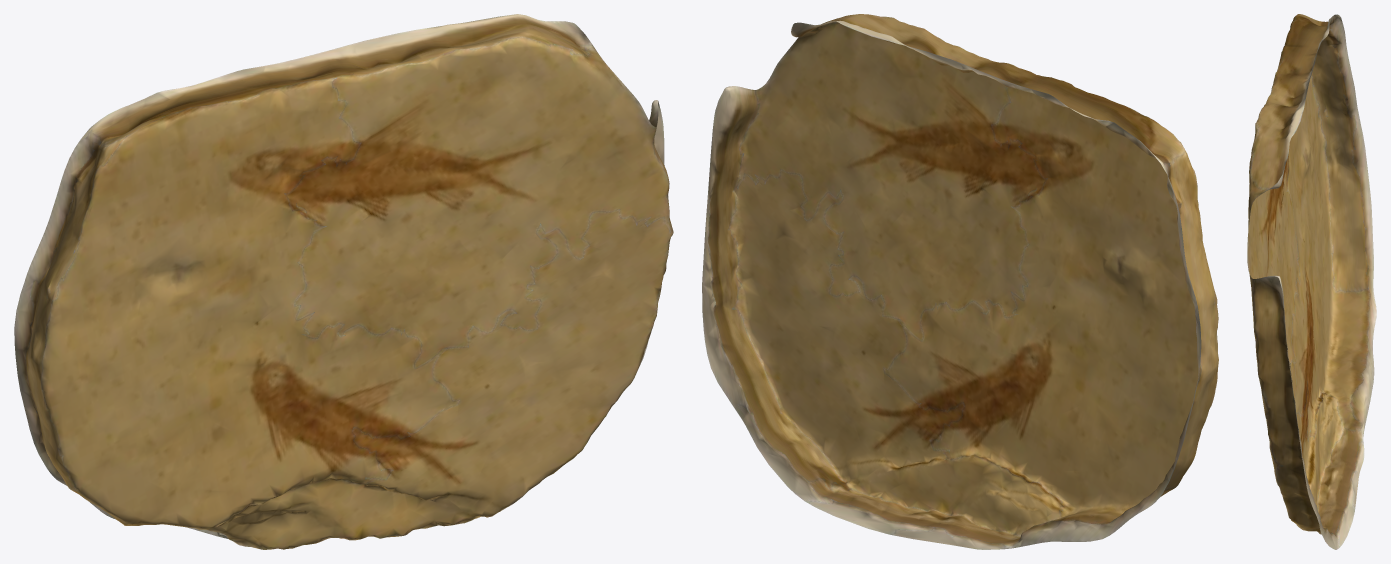
Rendered from PRP_FossilFish.glb.
The picture shows the model from 3 angles, left to right: view 1: azimuth 30°, elevation 25°; view 2: azimuth 150°, elevation 25°; view 3: azimuth 270°, elevation 25°; orthographic projection. The views are drawn at different scales.
Parts seen in each view (by area): view 1: Object_3; view 2: Object_3; view 3: Object_3.
Boxes of the visible parts, x1,y1,x2,y2 form: Object_3: [14, 14, 673, 549]; Object_3: [702, 14, 1218, 549]; Object_3: [1247, 14, 1376, 549].
Size of the model in its own units: 0.9885 by 0.8254 by 0.234.
1 material, 1 textured.
